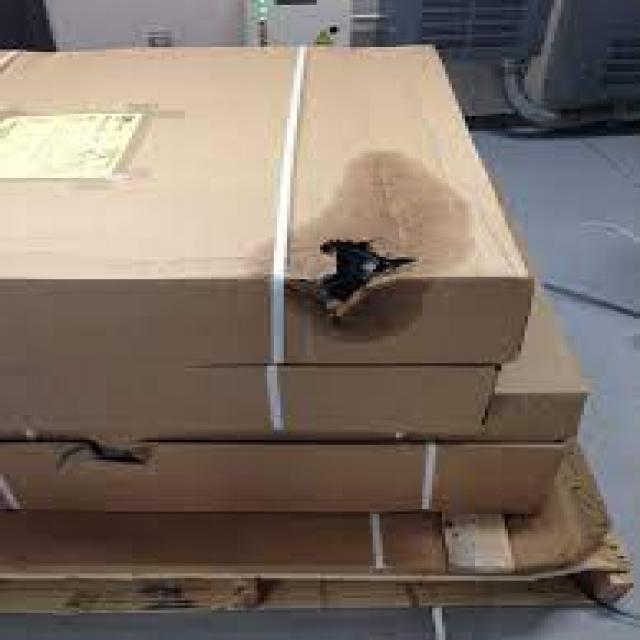hole: (309, 235, 417, 308)
